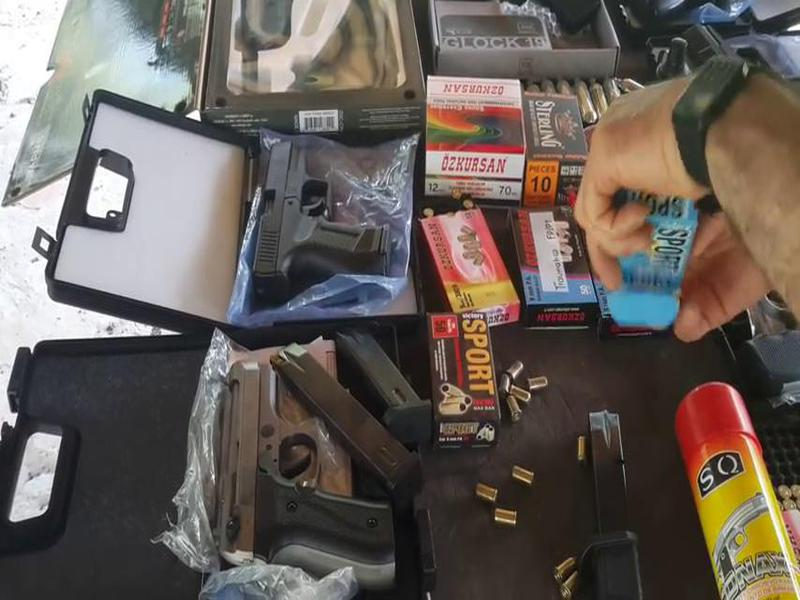Pistola: (207, 335, 400, 582), (238, 119, 401, 310)
